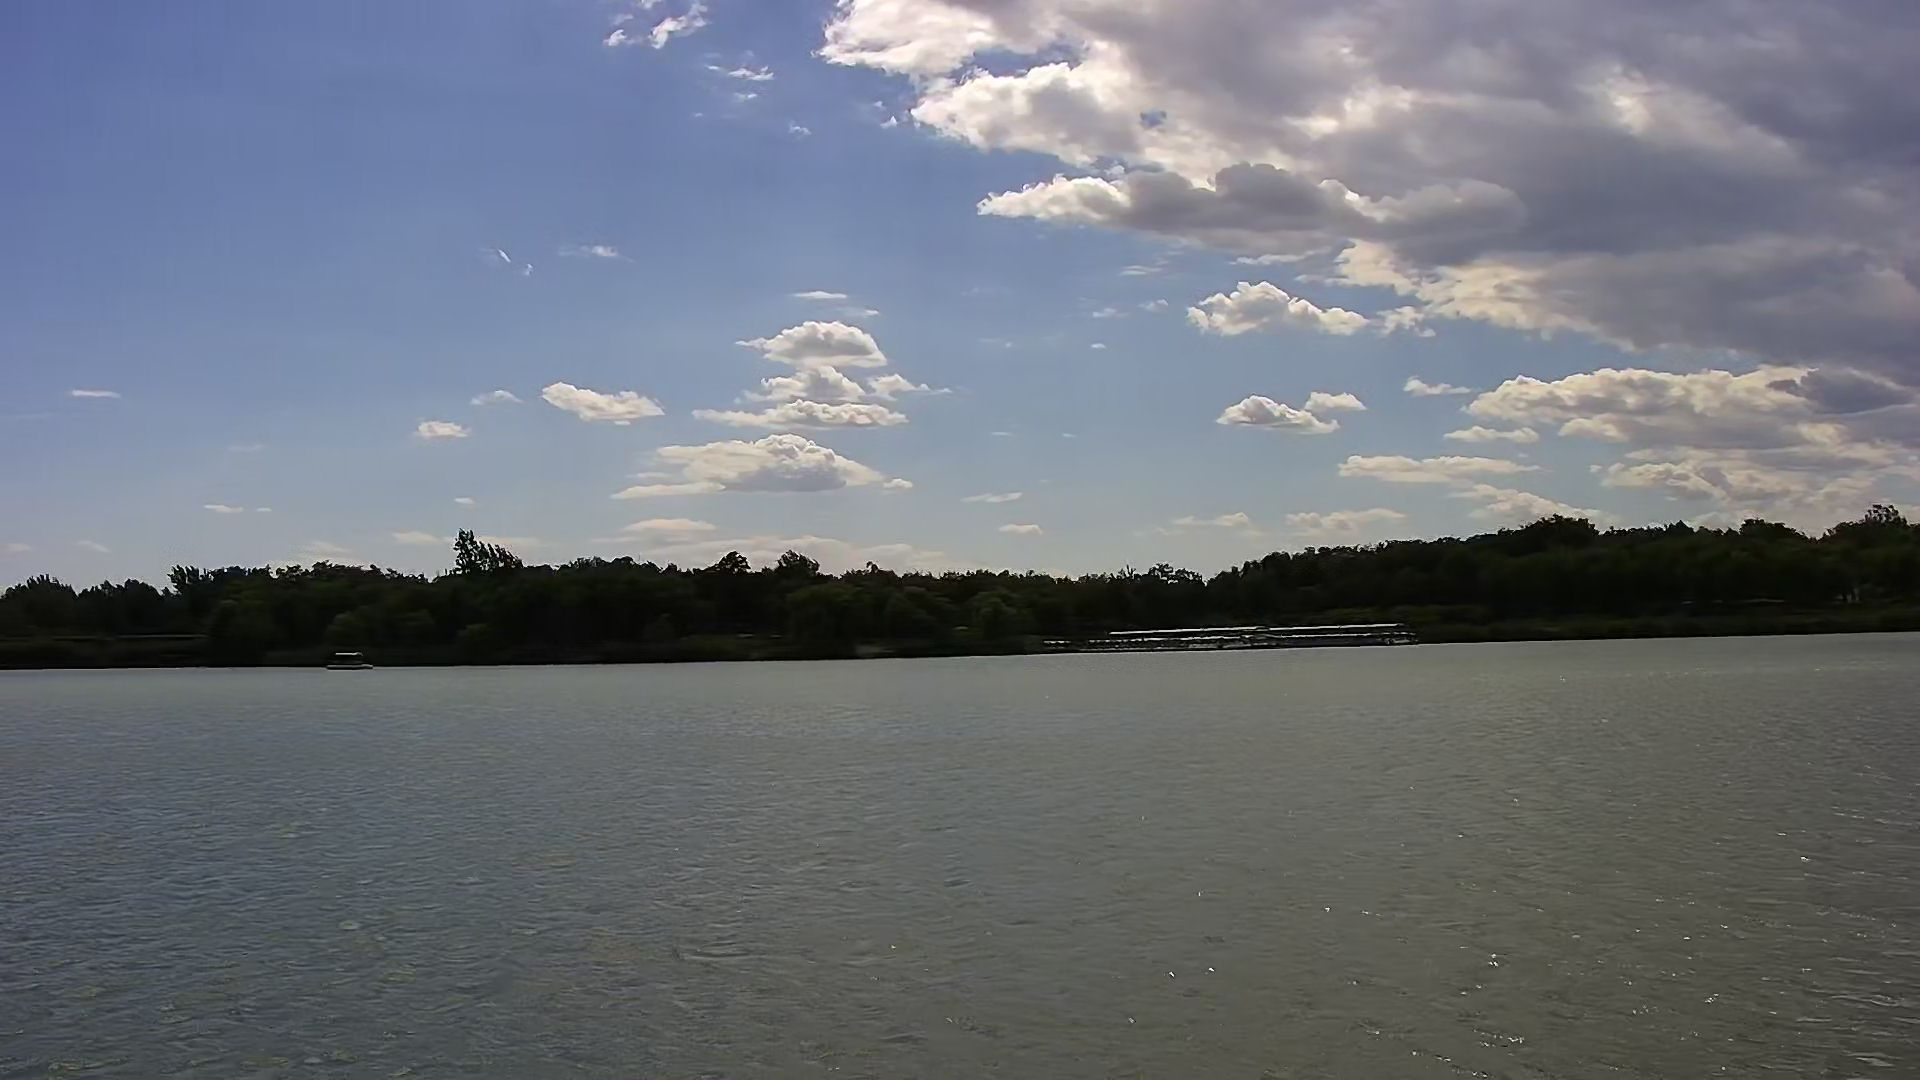boat: (320, 645, 373, 673)
harbor: (1073, 620, 1414, 653)
